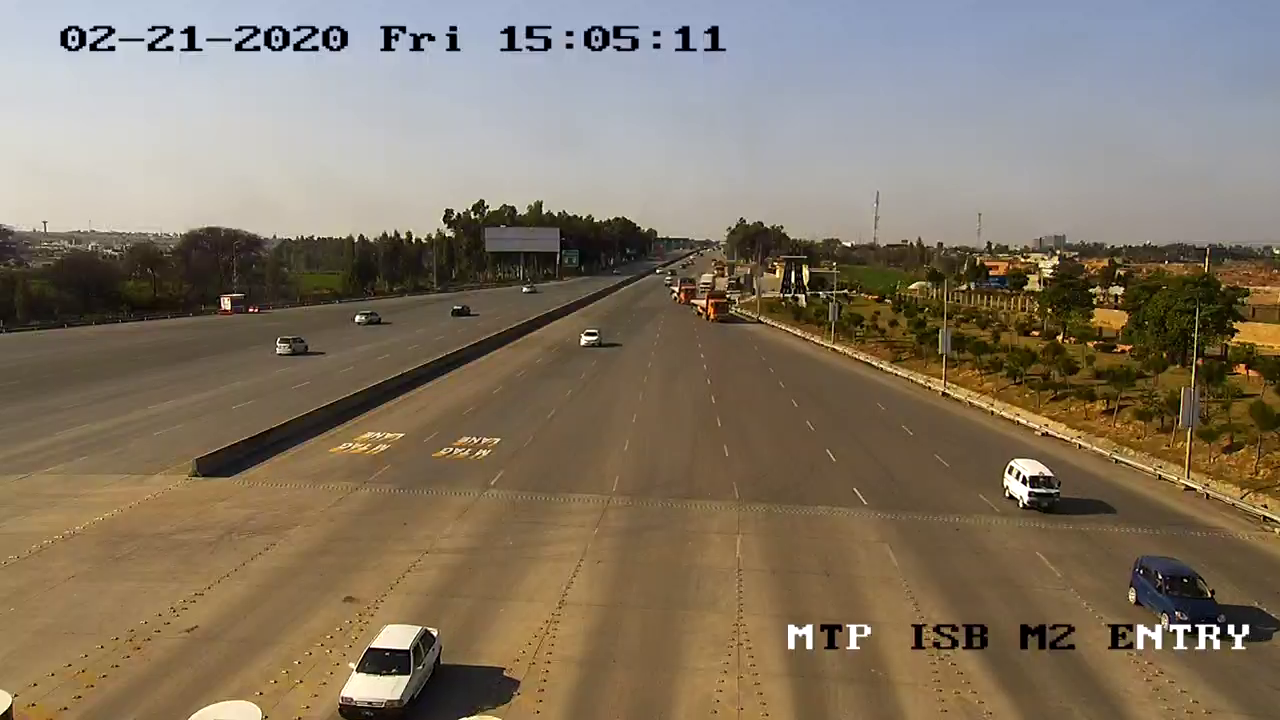f1: (332, 612, 449, 718), (991, 454, 1066, 520)
